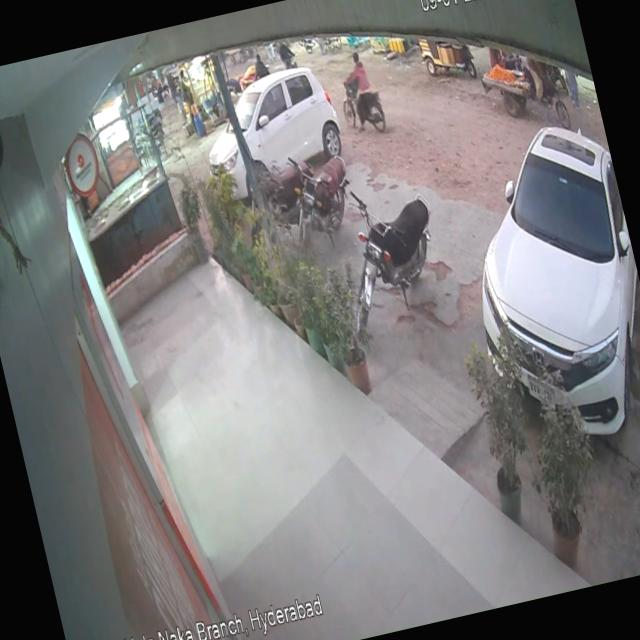Car: (429, 71, 640, 469), (170, 48, 352, 198)
Motorcycle: (324, 162, 464, 340), (284, 142, 366, 243)
